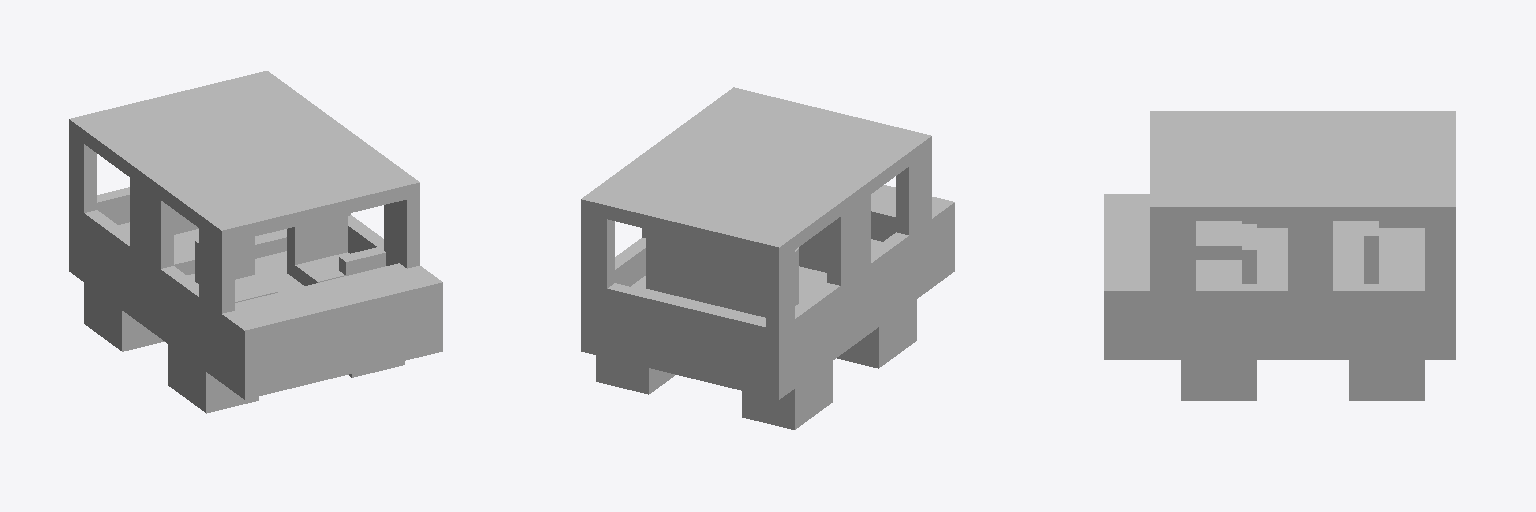
Rendered from car.obj.
The picture shows the model from 3 angles: view 1: azimuth 30°, elevation 25°; view 2: azimuth 150°, elevation 25°; view 3: azimuth 270°, elevation 25°; orthographic projection.
Visible parts, largest first — view 1: object 1; view 2: object 1; view 3: object 1.
Part boxes in pixels (left/top/right/bottom): object 1: left=69, top=71, right=442, bottom=413; object 1: left=581, top=87, right=954, bottom=429; object 1: left=1104, top=111, right=1455, bottom=400.
Size of the model in its own units: 1.5 by 1.4 by 2.3.